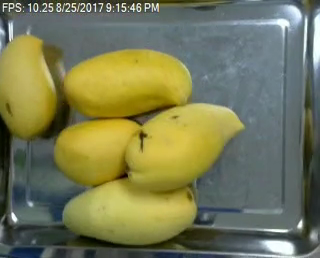Mango: (122, 100, 242, 191), (60, 176, 200, 244), (66, 45, 193, 118), (52, 115, 150, 185), (0, 33, 59, 139)
